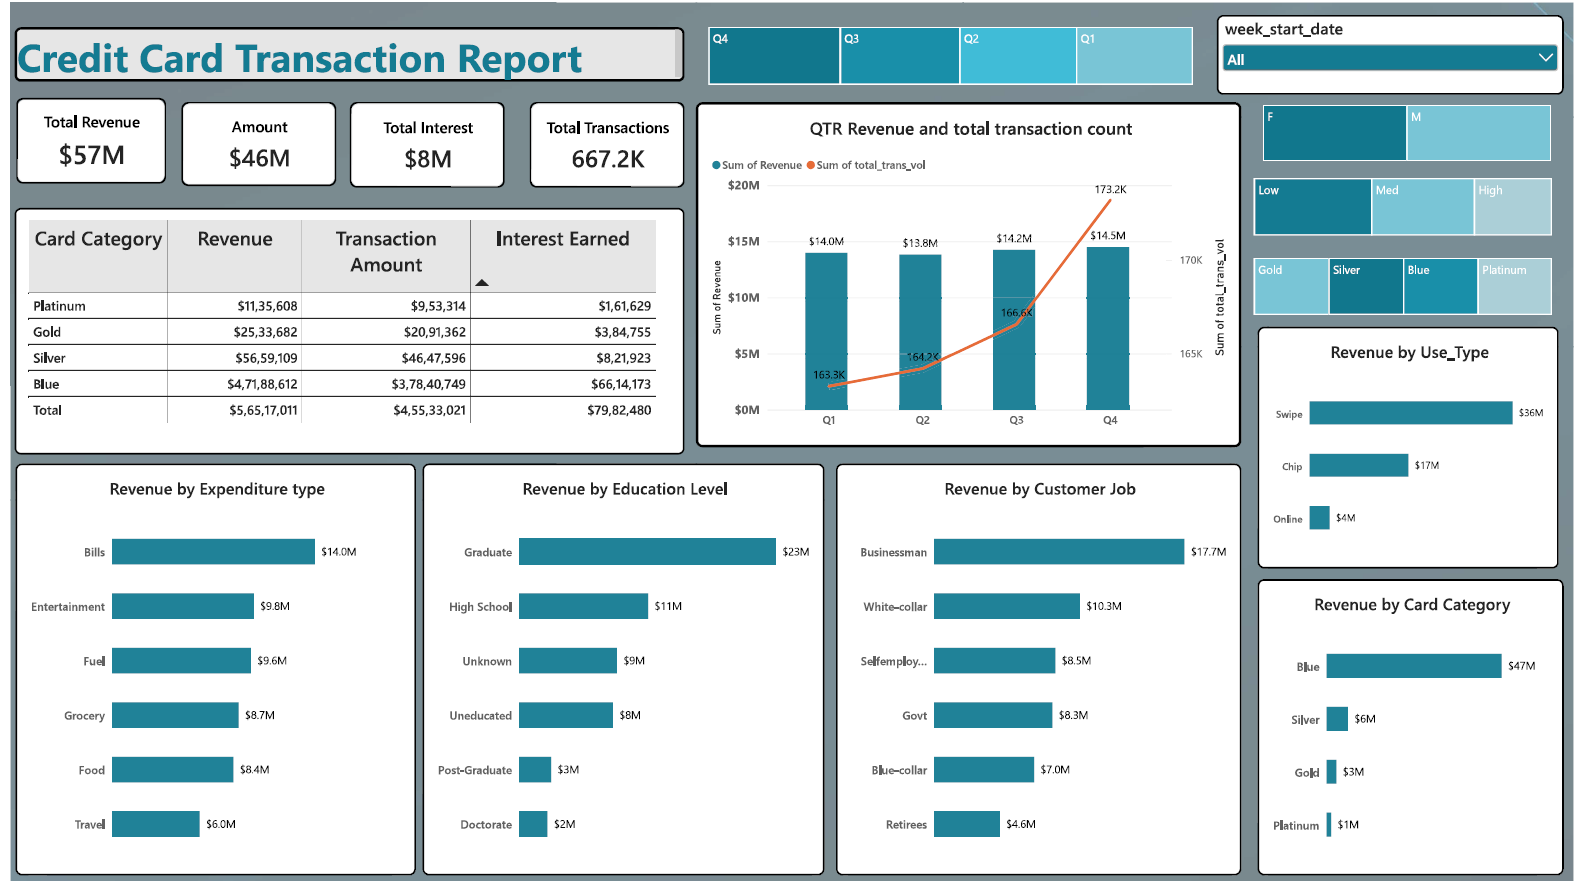

What the dashboard file says about the page in this screenshot:
{"tool":"powerbi","page":{"name":"CC Transaction","canvas":[1920,1080],"ordinal":1},"visuals":[{"type":"textbox","box":[5,30,823.3,66.7],"z":0},{"type":"lineStackedColumnComboChart","title":"QTR Revenue and total transaction count","fields":{"Y":["Sum(public cc_details.Revenue)"],"Y2":["Sum(public cc_details.total_trans_vol)"],"Category":["public cc_details.qtr"]},"box":[842,122,670,424],"z":1000},{"type":"barChart","title":"Revenue by Expenditure type","fields":{"Y":["Sum(public cc_details.Revenue)"],"Category":["public cc_details.exp_type"]},"box":[6,566,492,506],"z":2000},{"type":"barChart","title":"Revenue by Education Level","fields":{"Y":["Sum(public cc_details.Revenue)"],"Category":["public cust_details.education_level"]},"box":[506,566,494,506],"z":3000},{"type":"barChart","title":"Revenue by Customer Job","fields":{"Y":["Sum(public cc_details.Revenue)"],"Category":["public cust_details.customer_job"]},"box":[1014,566,498,506],"z":4000},{"type":"barChart","title":"Revenue by Card Category","fields":{"Y":["Sum(public cc_details.Revenue)"],"Category":["public cc_details.card_category"]},"box":[1531.7,708.3,376.7,363.3],"z":5000},{"type":"barChart","title":"Revenue by Use_Type","fields":{"Y":["Sum(public cc_details.Revenue)"],"Category":["public cc_details.use_chip"]},"box":[1531.7,398.3,370,296.7],"z":6000},{"type":"pivotTable","fields":{"Rows":["public cc_details.card_category"],"Values":["Sum(public cc_details.Revenue)","Sum(public cc_details.total_trans_amt)","Sum(public cc_details.interest_earned)"]},"box":[5,251.7,823.3,303.3],"z":7000},{"type":"cardVisual","title":"Total Revenue","fields":{"Data":["Sum(public cc_details.Revenue)"]},"box":[6.7,116.7,184.3,105.7],"z":8000},{"type":"cardVisual","fields":{"Data":["Sum(public cc_details.total_trans_amt)"]},"box":[210,121.7,190,103.3],"z":9000},{"type":"cardVisual","fields":{"Data":["Sum(public cc_details.interest_earned)"]},"box":[416.7,121.7,190,105],"z":10000},{"type":"cardVisual","fields":{"Data":["Sum(public cc_details.total_trans_vol)"]},"box":[638.3,121.7,190,105],"z":11000},{"type":"slicer","fields":{"Values":["public cc_details.week_start_date"]},"box":[1481.7,15,426.7,98.3],"z":12000},{"type":"treemap","fields":{"Group":["public cc_details.qtr"],"Values":["Avg(public cc_details.client_num)"]},"box":[842,16,626,100],"z":13000},{"type":"treemap","fields":{"Group":["public cust_details.gender"],"Values":["Avg(public cc_details.client_num)"]},"box":[1523.3,111.7,385,98.3],"z":14000},{"type":"treemap","fields":{"Details":["public cust_details.Income_Group"],"Values":["CountNonNull(public cc_details.client_num)"]},"box":[1512,202,397.1,98.6],"z":15000},{"type":"treemap","fields":{"Values":["Avg(public cc_details.client_num)"],"Details":["public cc_details.card_category"]},"box":[1511.7,300,397.1,98.6],"z":16000}]}

Visuals, with their boxes in screenshot pixels (x1, y1, x2, y2), scaled from the page's 1920x1080 canvas onto the 1578x881 screenshot:
textbox: [4,24,681,79]
"QTR Revenue and total transaction count" lineStackedColumnComboChart: [692,100,1243,445]
"Revenue by Expenditure type" barChart: [5,462,409,874]
"Revenue by Education Level" barChart: [416,462,822,874]
"Revenue by Customer Job" barChart: [833,462,1243,874]
"Revenue by Card Category" barChart: [1259,578,1568,874]
"Revenue by Use_Type" barChart: [1259,325,1563,567]
pivotTable - public cc_details.card_category x Sum(public cc_details.Revenue): [4,205,681,453]
"Total Revenue" cardVisual: [6,95,157,181]
cardVisual - Sum(public cc_details.total_trans_amt): [173,99,329,184]
cardVisual - Sum(public cc_details.interest_earned): [342,99,499,185]
cardVisual - Sum(public cc_details.total_trans_vol): [525,99,681,185]
slicer - public cc_details.week_start_date: [1218,12,1568,92]
treemap - public cc_details.qtr x Avg(public cc_details.client_num): [692,13,1207,95]
treemap - public cust_details.gender x Avg(public cc_details.client_num): [1252,91,1568,171]
treemap - public cust_details.Income_Group x CountNonNull(public cc_details.client_num): [1243,165,1569,245]
treemap - Avg(public cc_details.client_num) x public cc_details.card_category: [1242,245,1569,325]
